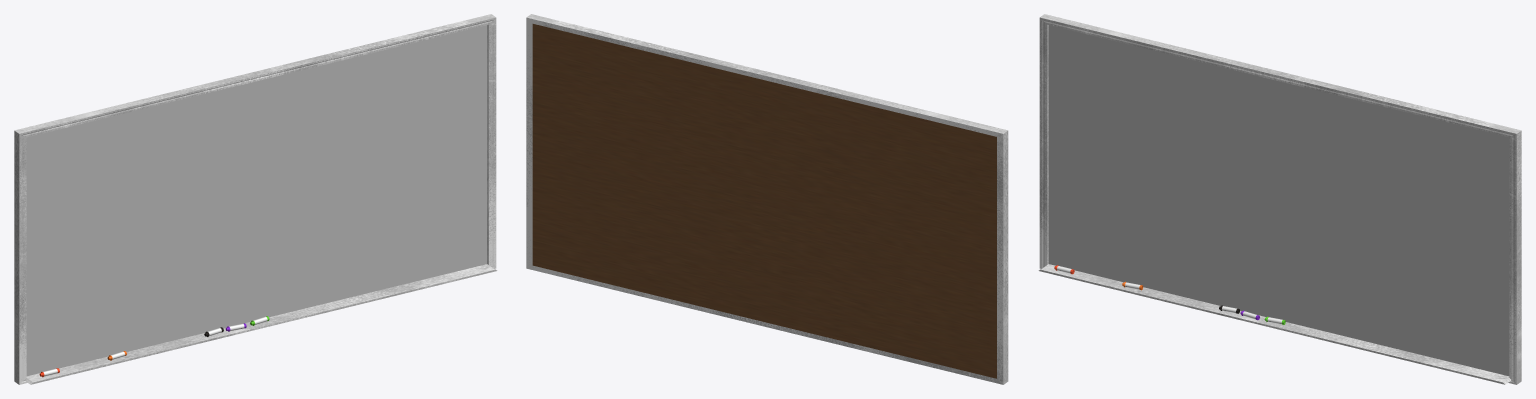
The model's file is WhiteBoard.fbx.
3 renders of one model, left to right at view 1: azimuth 30°, elevation 25°; view 2: azimuth 150°, elevation 25°; view 3: azimuth 330°, elevation 25°, orthographic.
Parts seen in each view (by area): view 1: Plane.020; view 2: Plane.020; view 3: Plane.020.
Part boxes in pixels (x1,y1,x2,y2): Plane.020: (14, 14, 497, 384); Plane.020: (526, 14, 1008, 384); Plane.020: (1038, 14, 1521, 384).
Size of the model in its own units: 280 by 141 by 11.4.
